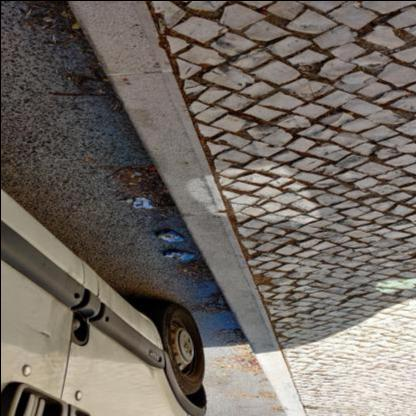Carton: (162, 249, 195, 260), (154, 230, 184, 242)
Cigarette: (129, 182, 139, 185), (130, 173, 136, 177), (190, 266, 198, 268), (137, 177, 141, 181), (241, 392, 247, 394), (250, 267, 253, 270)
Plastic bag - wrapper: (132, 197, 152, 209)
